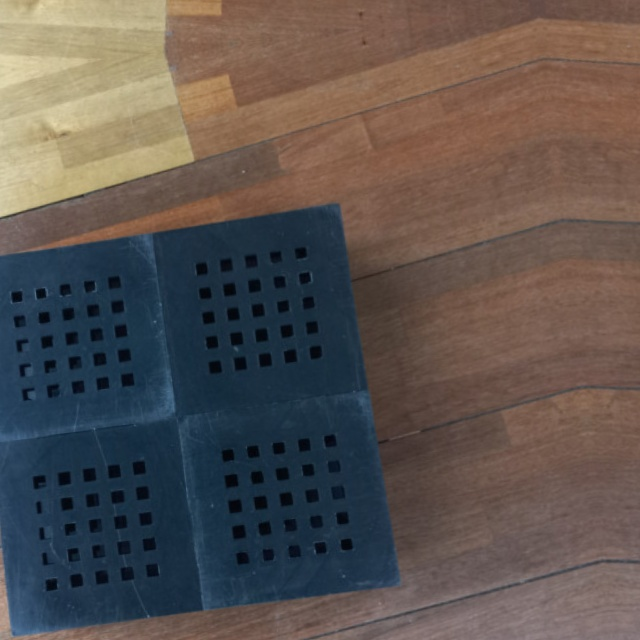pallet: (3, 177, 418, 624)
